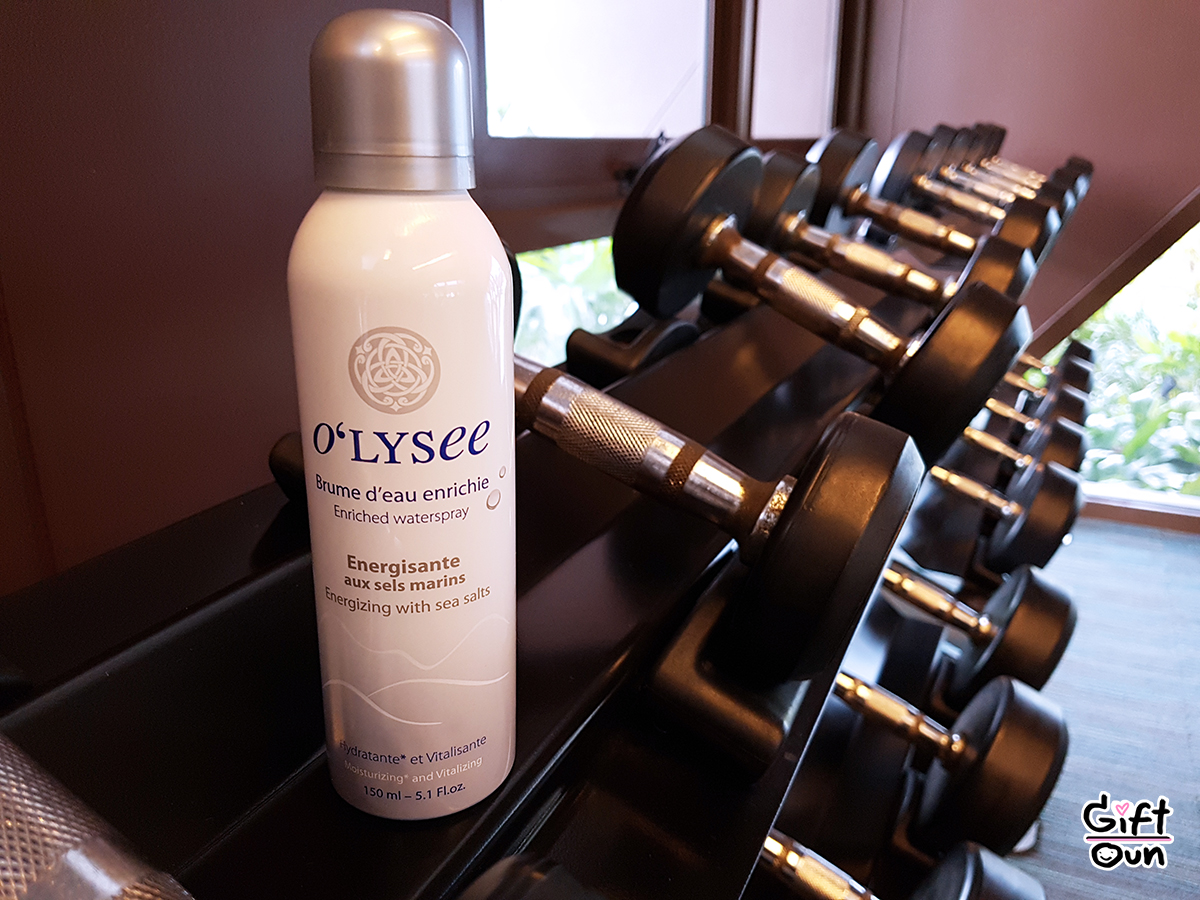Aerosol_cans: (284, 6, 524, 825)
